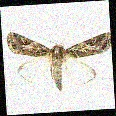Spodoptera litura: (7, 22, 111, 92)
